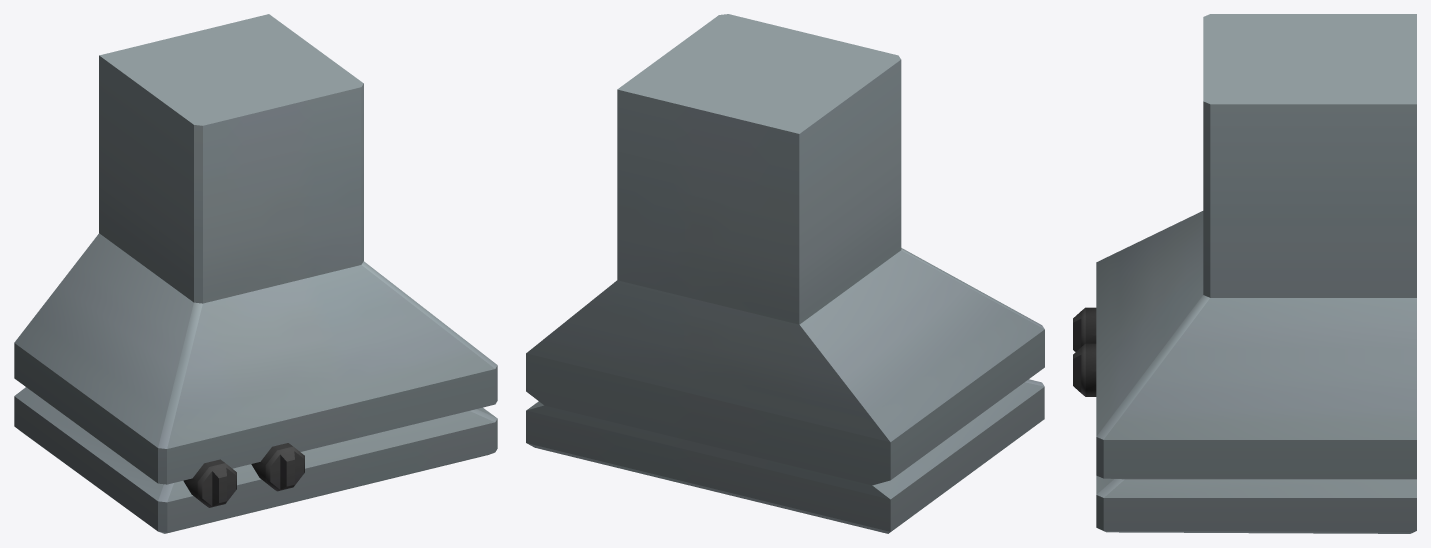
Rendered from kkr.extractorhood.glb.
The picture shows the model from 3 angles, left to right: view 1: azimuth 30°, elevation 25°; view 2: azimuth 150°, elevation 25°; view 3: azimuth 270°, elevation 25°; orthographic projection. The views are drawn at different scales.
Visible parts, largest first — view 1: extractorhood; view 2: extractorhood; view 3: extractorhood.
Boxes of the visible parts, x1,y1,x2,y2 form: extractorhood: (14,14,497,533); extractorhood: (526,14,1044,533); extractorhood: (1073,14,1416,533).
Size of the model in its own units: 1.49 by 1.49 by 1.2.
1 material, 1 textured.
